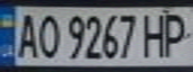2: (81, 11, 103, 61)
6: (103, 11, 124, 60)
7: (118, 10, 142, 60)
9: (63, 11, 84, 61)
A: (12, 9, 42, 60)
H: (139, 10, 172, 57)
O: (33, 10, 60, 60)
P: (160, 9, 193, 57)
